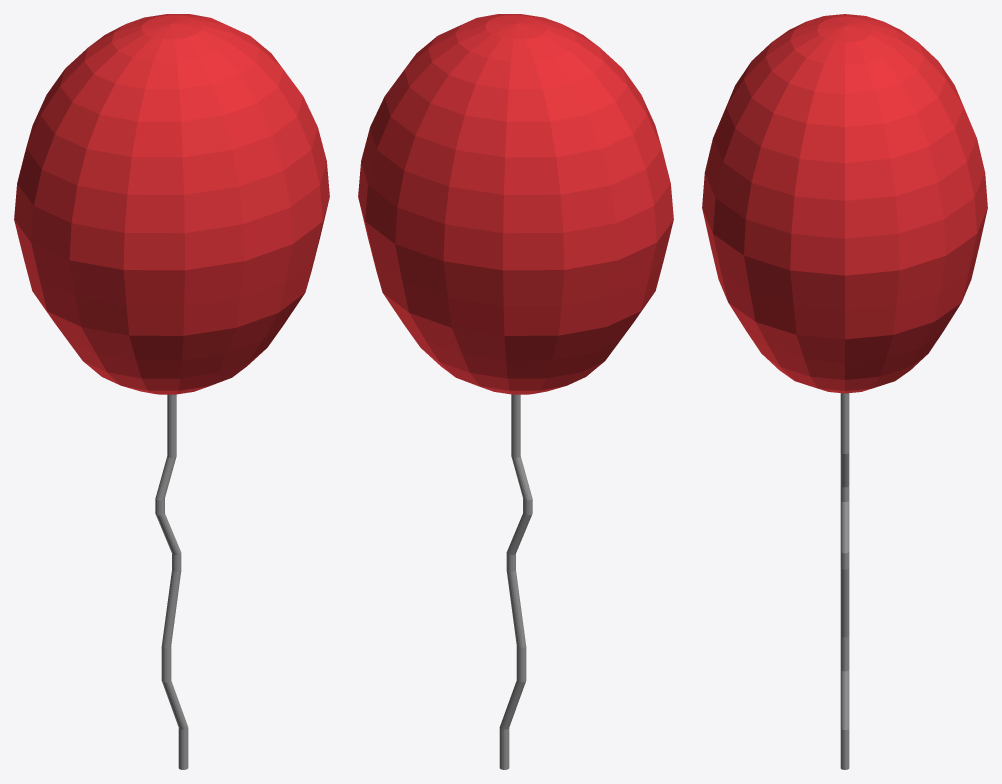
Rendered from balaO1.fbx.
3 renders of one model, left to right at view 1: azimuth 30°, elevation 25°; view 2: azimuth 150°, elevation 25°; view 3: azimuth 270°, elevation 25°, orthographic.
Visible parts, largest first — view 1: Sphere; view 2: Sphere; view 3: Sphere.
Part boxes in pixels (x1,y1,x2,y2): Sphere: (14,14,329,769); Sphere: (358,14,673,769); Sphere: (702,14,987,769).
Bounding box in the file's own units: 224 × 568 × 200.
